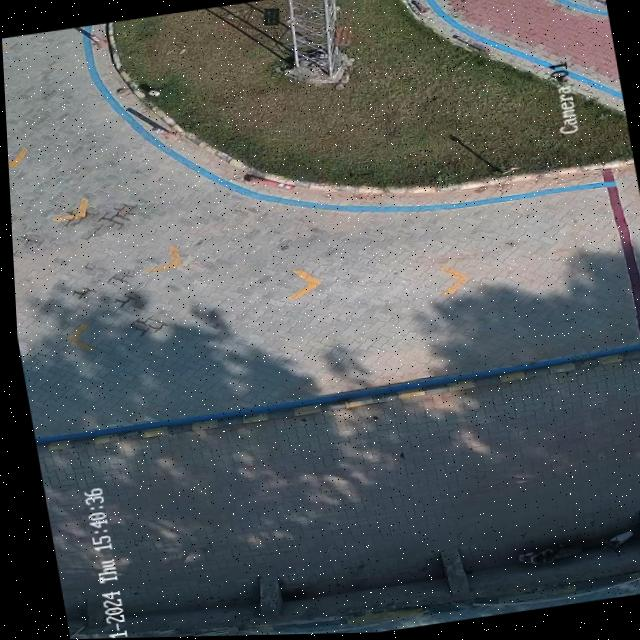No Car: (2, 0, 640, 639)
